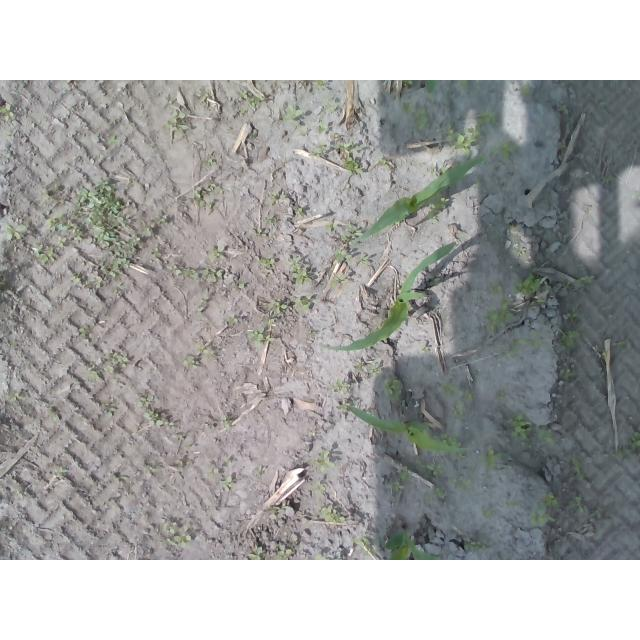Maize: (321, 243, 455, 354), (346, 156, 482, 245), (334, 402, 477, 455), (385, 520, 443, 560)
Weeds: (31, 176, 171, 300), (82, 352, 128, 385), (260, 296, 312, 323), (135, 393, 173, 427), (172, 262, 224, 284), (445, 122, 480, 154), (401, 99, 432, 130), (192, 178, 220, 211), (500, 337, 541, 359), (487, 304, 518, 333), (326, 222, 363, 246), (337, 142, 363, 175), (544, 492, 587, 511), (613, 431, 640, 459), (209, 465, 236, 491), (512, 273, 542, 296), (430, 192, 451, 224), (164, 527, 193, 550), (387, 467, 412, 493), (237, 87, 260, 115), (287, 257, 311, 283), (510, 416, 535, 440), (318, 505, 347, 524), (384, 377, 405, 403), (568, 453, 588, 479), (311, 449, 334, 471), (454, 393, 475, 417), (4, 222, 26, 243), (167, 110, 189, 131), (493, 140, 516, 160), (440, 432, 465, 450), (246, 326, 268, 346), (477, 109, 499, 127), (421, 463, 449, 477), (451, 476, 474, 493), (529, 513, 555, 528), (562, 327, 583, 345), (285, 104, 305, 122), (539, 428, 558, 446), (1, 102, 16, 123), (485, 447, 498, 471), (275, 542, 292, 560), (463, 541, 490, 552), (182, 353, 199, 370), (102, 402, 119, 419), (309, 142, 326, 159), (206, 247, 224, 262), (331, 376, 347, 392), (435, 381, 453, 395), (47, 406, 61, 423), (246, 548, 264, 561), (489, 280, 504, 295), (557, 366, 574, 379), (268, 506, 281, 523), (425, 80, 438, 97), (352, 537, 372, 548), (577, 273, 596, 284), (520, 85, 536, 98), (270, 191, 288, 201), (257, 259, 273, 270), (332, 250, 348, 261), (333, 276, 347, 288), (5, 392, 19, 404), (556, 105, 570, 116), (294, 206, 306, 218), (496, 390, 508, 402), (201, 159, 214, 170), (226, 318, 239, 329), (455, 80, 470, 89), (434, 488, 445, 500), (562, 279, 575, 289), (315, 80, 329, 89), (483, 509, 494, 520), (316, 122, 326, 134), (77, 328, 87, 338), (567, 313, 578, 322), (559, 141, 566, 155), (374, 158, 386, 166), (359, 256, 369, 265), (370, 367, 380, 376), (111, 136, 121, 145), (315, 554, 329, 560), (238, 281, 247, 289), (401, 80, 412, 86)
